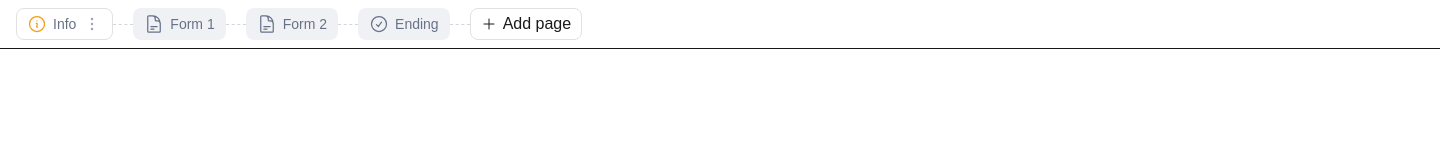
Test: PageStepsBar › should rename page step by submit
// first we select the page step
Click the button "Form 1". click: (180, 24)
box: x1=133 y1=8 x2=226 y2=40
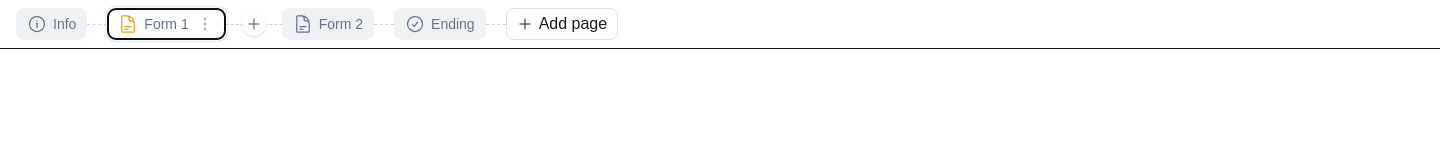
// then we bring input
Click the button "Form 1". click: (167, 24)
box: x1=107 y1=8 x2=226 y2=40
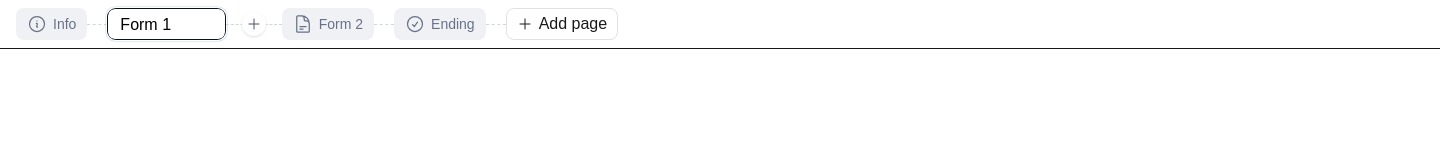
Replace the text in the field named "Page step name" with "Renamed". click: (167, 25)
box: x1=112 y1=14 x2=221 y2=36
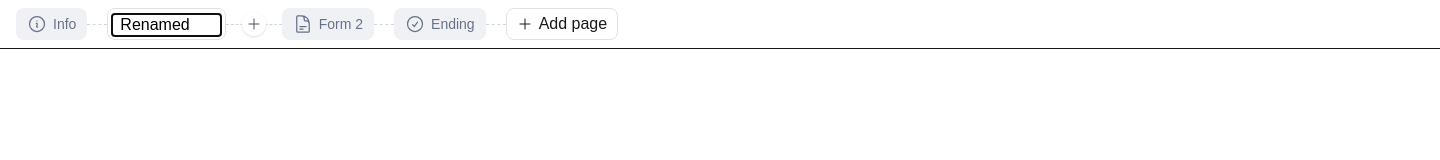
Press Enter
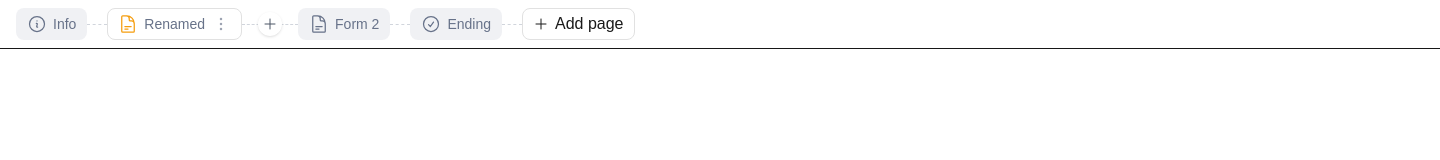
Now the text "Renamed" is shown, box x1=144 y1=14 x2=205 y2=34
